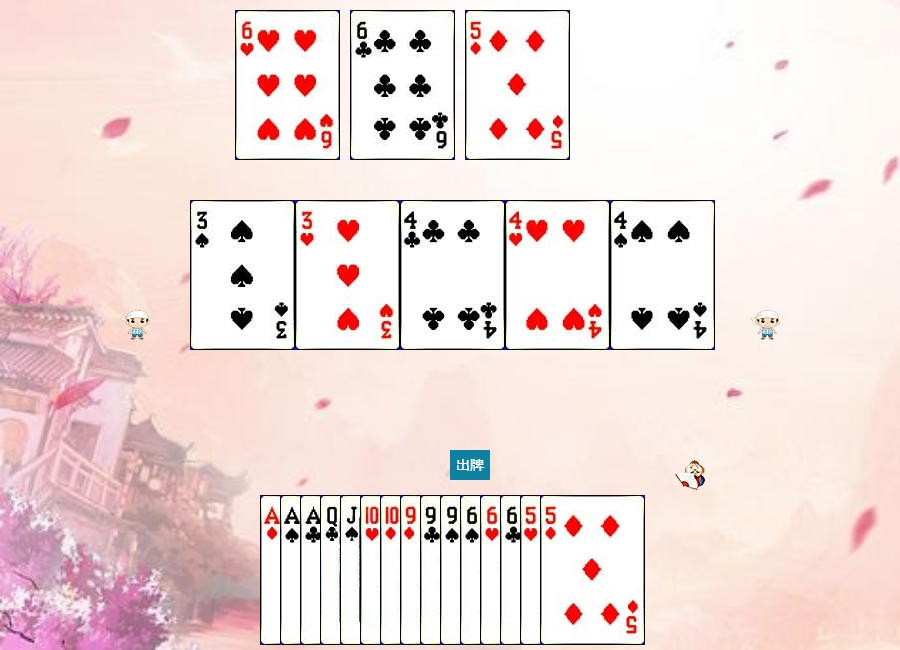10~1: (380, 495, 485, 645)
10~3: (360, 495, 465, 645)
11~4: (340, 495, 445, 645)
12~2: (320, 495, 425, 645)
14~1: (260, 495, 365, 645)
14~2: (300, 495, 405, 645)
14~4: (280, 495, 385, 645)
3~3: (295, 200, 400, 350)
3~4: (190, 200, 295, 350)
4~2: (400, 200, 505, 350)
4~3: (505, 200, 610, 350)
4~4: (610, 200, 715, 350)
5~1: (465, 10, 570, 160), (540, 495, 645, 645)
5~3: (520, 495, 625, 645)
6~2: (350, 10, 455, 160), (500, 495, 605, 645)
6~3: (235, 10, 340, 160), (480, 495, 585, 645)
6~4: (460, 495, 565, 645)
9~1: (400, 495, 505, 645)
9~2: (420, 495, 525, 645)
9~4: (440, 495, 545, 645)
